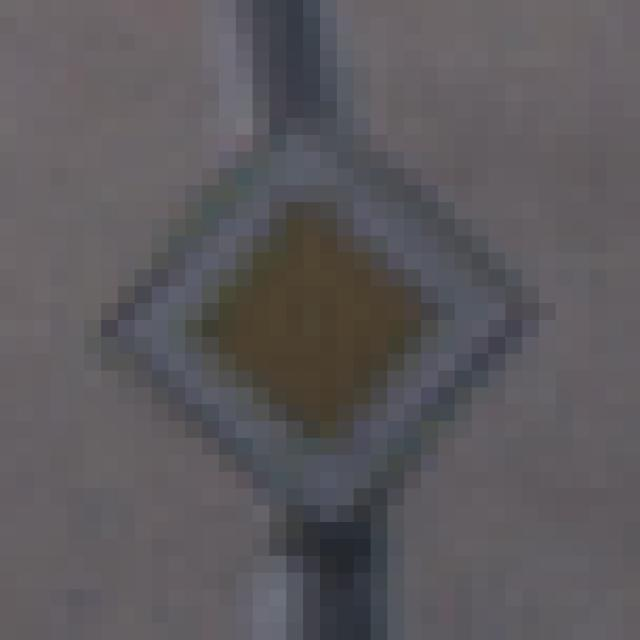Main Road: (102, 102, 557, 557)
